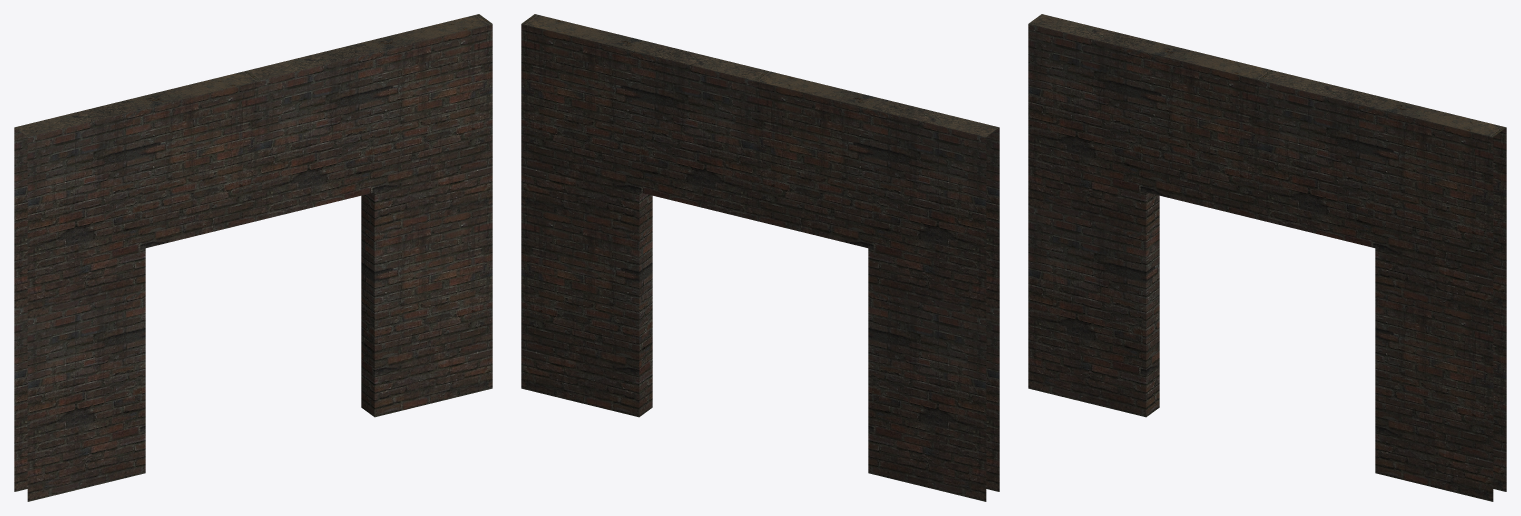
File: garage_door_frame_hs_1.obj
The picture shows the model from 3 angles, left to right: view 1: azimuth 30°, elevation 25°; view 2: azimuth 150°, elevation 25°; view 3: azimuth 330°, elevation 25°; orthographic projection.
Parts seen in each view (by area): view 1: garage_door_frame_hs_1; view 2: garage_door_frame_hs_1; view 3: garage_door_frame_hs_1.
Boxes of the visible parts, left/top/right/bottom form: garage_door_frame_hs_1: left=14, top=14, right=492, bottom=501; garage_door_frame_hs_1: left=521, top=14, right=999, bottom=501; garage_door_frame_hs_1: left=1028, top=14, right=1506, bottom=501.
Size of the model in its own units: 8 by 6 by 0.4.
